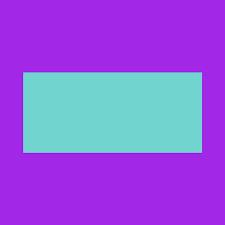cyan_zone: (21, 70, 205, 158)
